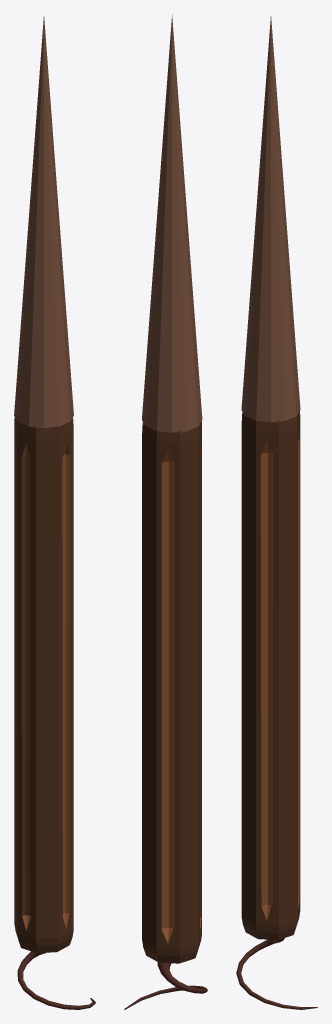
Rendered from Wand 529.glb.
The picture shows the model from 3 angles, left to right: view 1: azimuth 30°, elevation 25°; view 2: azimuth 150°, elevation 25°; view 3: azimuth 330°, elevation 25°; orthographic projection. The views are drawn at different scales.
Parts seen in each view (by area): view 1: GeneratedWand; view 2: GeneratedWand; view 3: GeneratedWand.
Part boxes in pixels (x1,y1,x2,y2): GeneratedWand: (14, 16, 95, 1009); GeneratedWand: (124, 14, 207, 1009); GeneratedWand: (236, 16, 317, 1009).
Bounding box in the file's own units: 0.0402 × 0.5173 × 0.0347.
